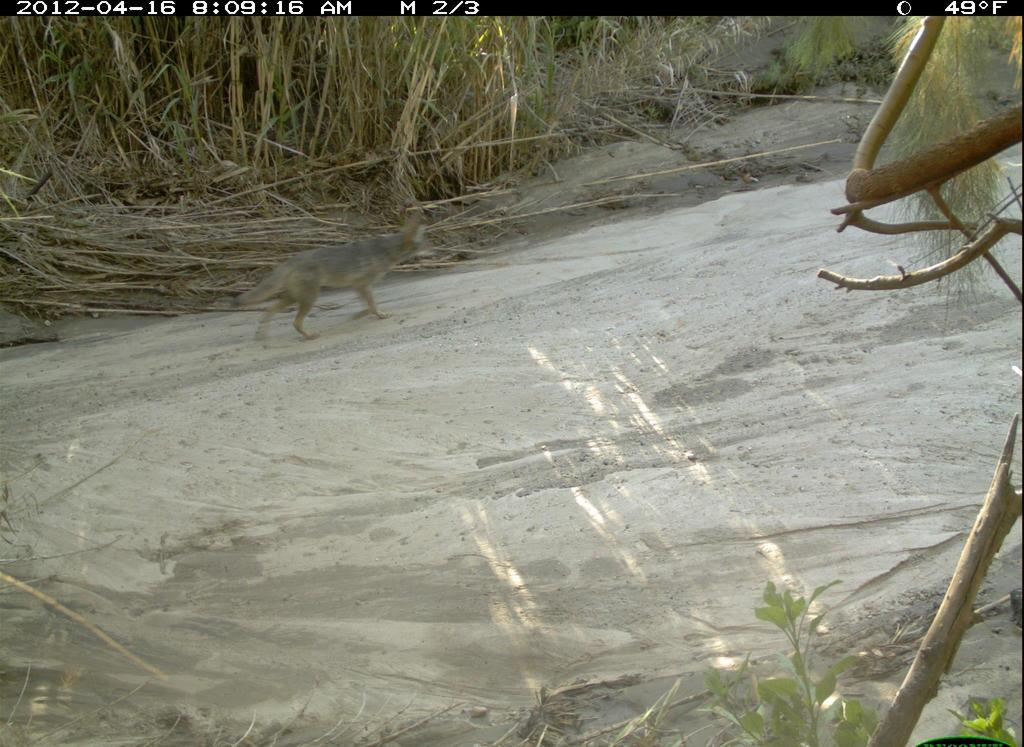coyote: (230, 210, 442, 340)
